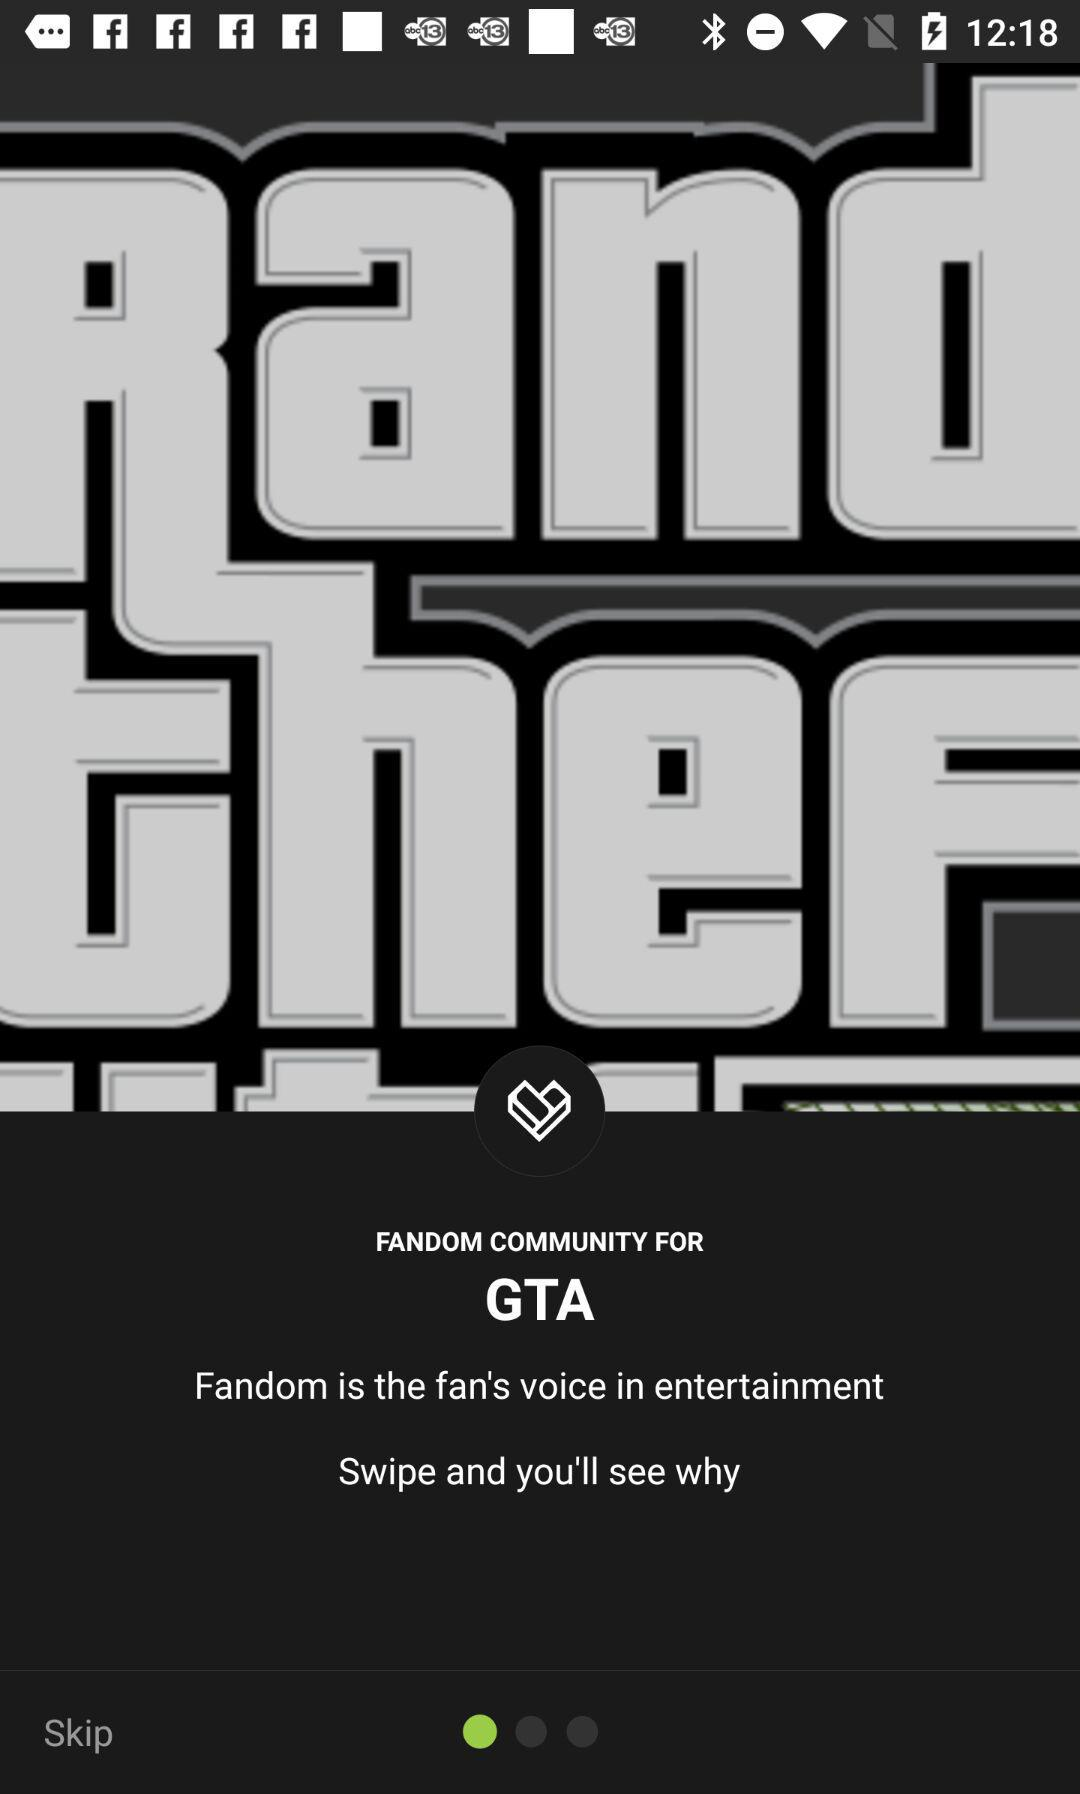Image: (1, 64, 1079, 1112), (471, 1044, 605, 1179)
PageIndicator: (461, 1712, 601, 1750)
Text: (196, 1369, 885, 1402), (340, 1456, 742, 1494), (375, 1230, 705, 1253), (486, 1278, 594, 1321), (46, 1718, 114, 1756)
UpperTaskBar: (1, 1, 1080, 64)
